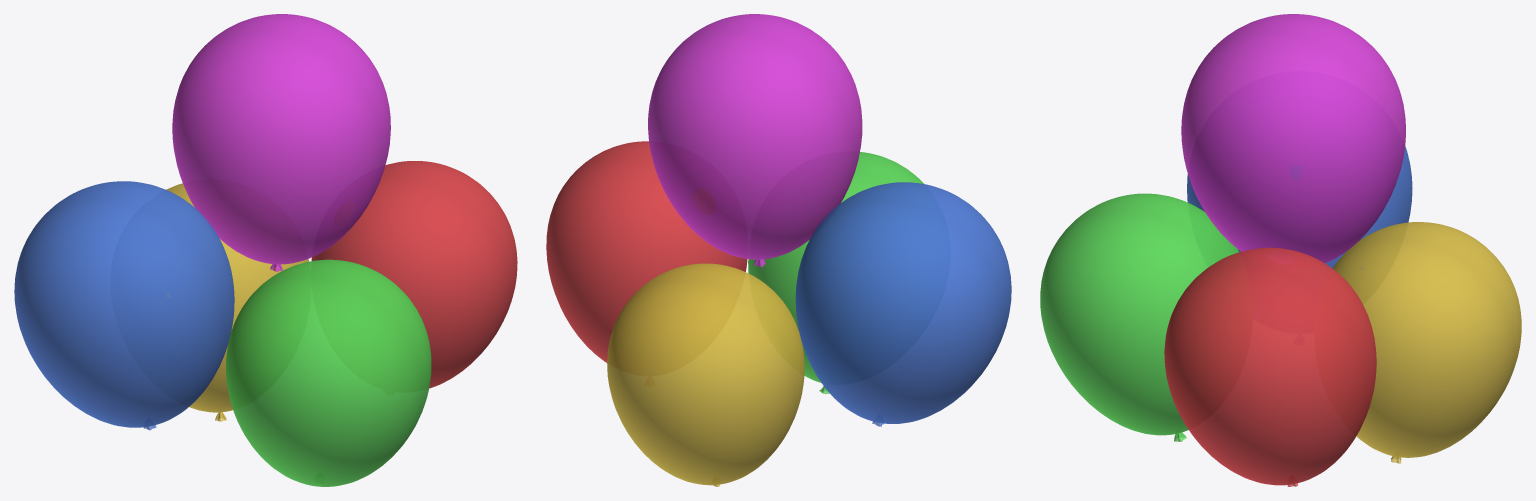
3 views of the same model, side by side, from view 1: azimuth 30°, elevation 25°; view 2: azimuth 150°, elevation 25°; view 3: azimuth 270°, elevation 25° (orthographic). The views are drawn at different scales.
Parts seen in each view (by area): view 1: Sphere.004, Sphere.002, Sphere.003, Sphere, Sphere.001; view 2: Sphere.004, Sphere.002, Sphere.001, Sphere, Sphere.003; view 3: Sphere.004, Sphere, Sphere.001, Sphere.003, Sphere.002.
Part boxes in pixels (x1=…): Sphere.004: x1=172, y1=14, x2=390, y2=271; Sphere.002: x1=14, y1=181, x2=234, y2=430; Sphere.003: x1=226, y1=259, x2=431, y2=486; Sphere: x1=311, y1=161, x2=517, y2=388; Sphere.001: x1=166, y1=183, x2=308, y2=421; Sphere.004: x1=648, y1=14, x2=862, y2=266; Sphere.002: x1=795, y1=182, x2=1011, y2=426; Sphere.001: x1=607, y1=263, x2=804, y2=486; Sphere: x1=546, y1=141, x2=747, y2=362; Sphere.003: x1=748, y1=152, x2=923, y2=394; Sphere.004: x1=1181, y1=14, x2=1405, y2=263; Sphere: x1=1164, y1=247, x2=1376, y2=486; Sphere.001: x1=1332, y1=222, x2=1521, y2=463; Sphere.003: x1=1040, y1=193, x2=1238, y2=441; Sphere.002: x1=1187, y1=146, x2=1412, y2=269.
Size of the model in its own units: 2.84 by 2.54 by 2.51.
